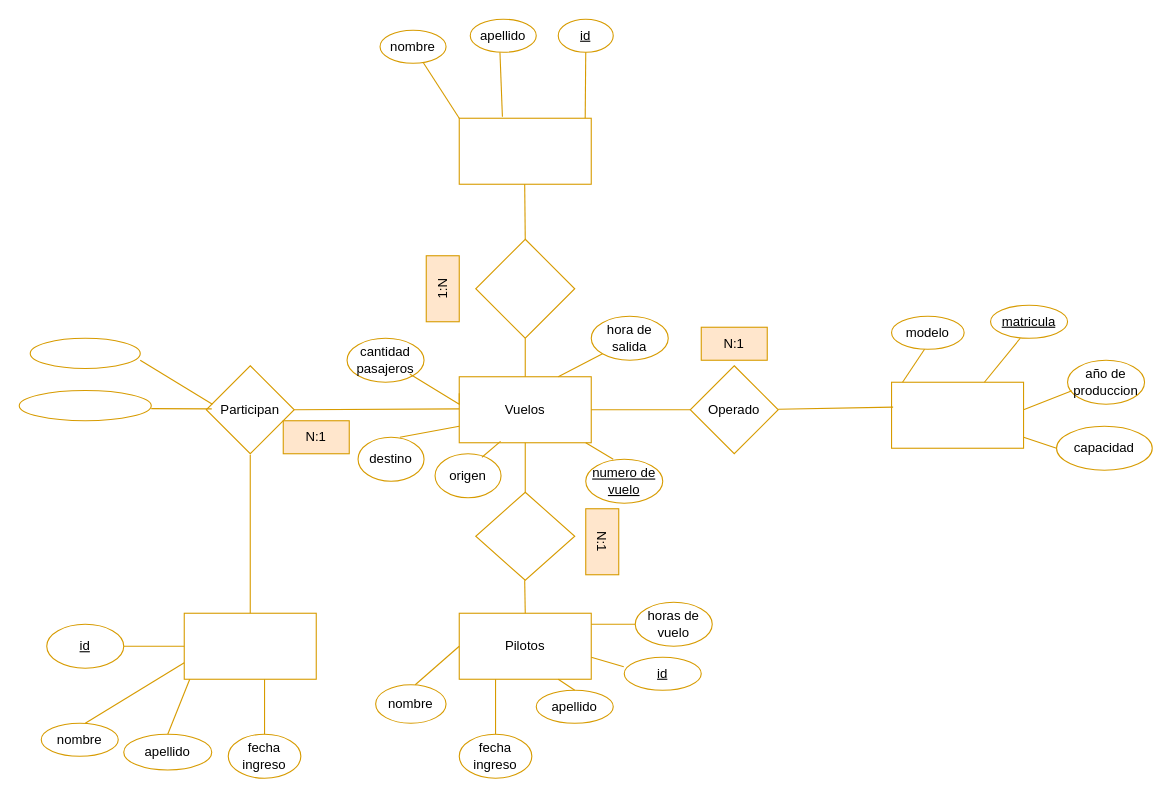
The diagram is 1172 pixels wide and 798 high, and some of its shapes have lost their labels. The shapes that lost their labels are listed below. From the top down, each one's box as (x1, y1, x2, y2) in pixels, then its label:
(458, 117, 591, 184): Pasajeros
(475, 238, 575, 338): Transporta
(29, 337, 140, 369): cantidad
(18, 389, 151, 421): grupo_asignado
(890, 381, 1024, 448): Aviones
(475, 491, 575, 580): Realizan
(183, 612, 316, 679): Miembros de Tripulacion
